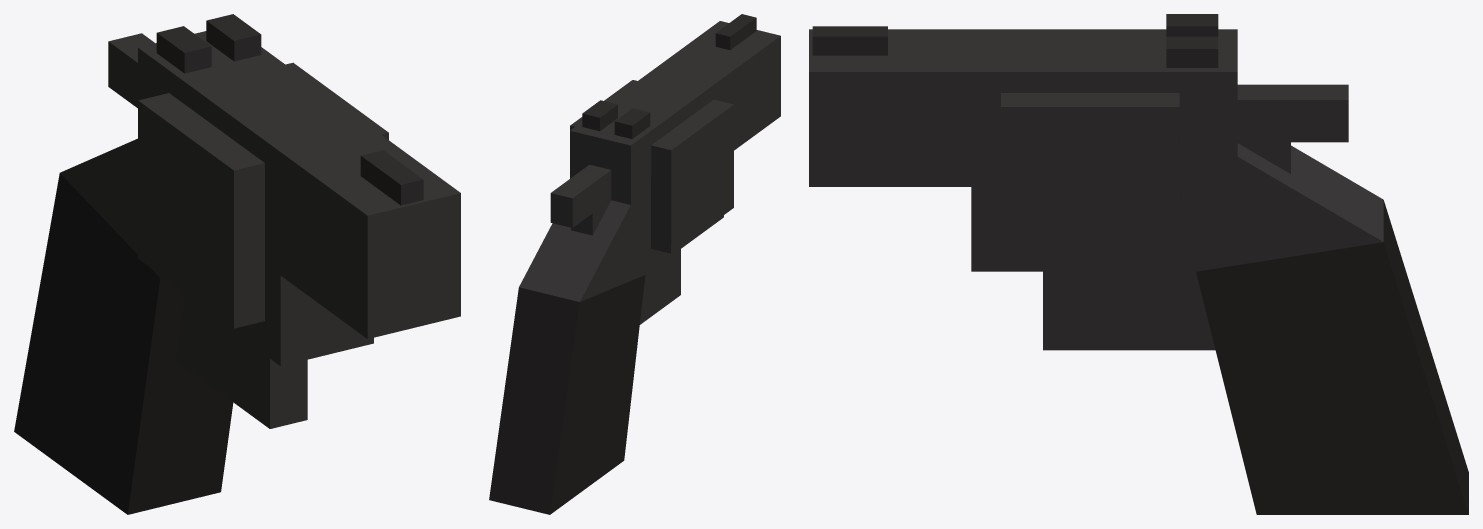
File: Revolver_snub.FBX
The picture shows the model from 3 angles, left to right: view 1: azimuth 30°, elevation 25°; view 2: azimuth 150°, elevation 25°; view 3: azimuth 270°, elevation 25°; orthographic projection. The views are drawn at different scales.
Visible parts, largest first — view 1: Revolve_Snub, RevolverBarrel; view 2: Revolve_Snub, RevolverBarrel; view 3: Revolve_Snub, RevolverBarrel.
Boxes of the visible parts, box(x1,y1,x2,y2) form: Revolve_Snub: box(14, 14, 460, 514); RevolverBarrel: box(137, 62, 388, 328); Revolve_Snub: box(489, 14, 780, 514); RevolverBarrel: box(570, 80, 733, 253); Revolve_Snub: box(809, 14, 1468, 514); RevolverBarrel: box(1001, 93, 1180, 254).
Size of the model in its own units: 11.26 by 44.48 by 34.39.
